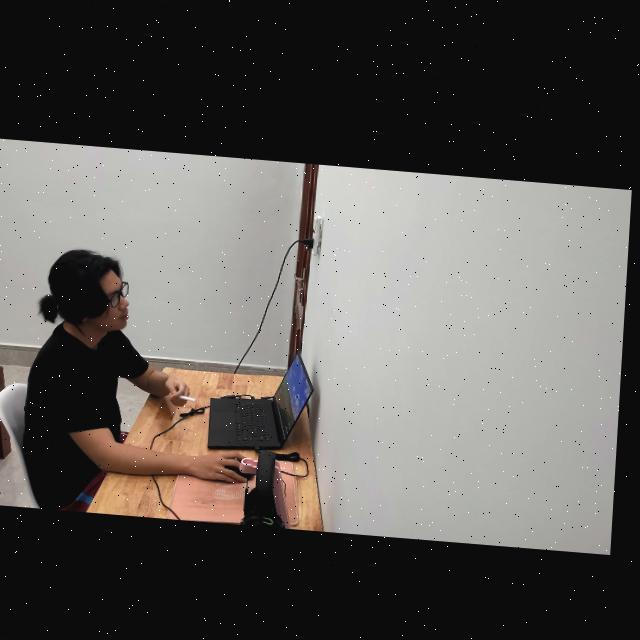cigarette: (174, 387, 201, 398)
